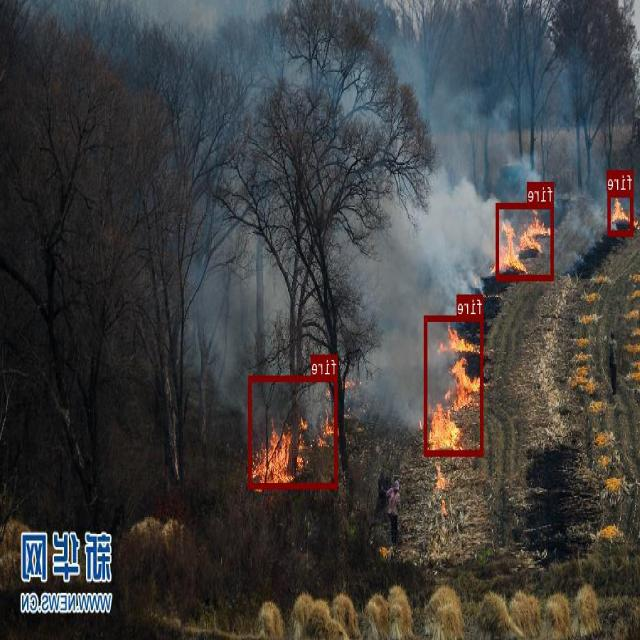fire: (249, 375, 338, 487), (425, 315, 484, 455), (497, 202, 554, 279), (608, 190, 634, 236)
